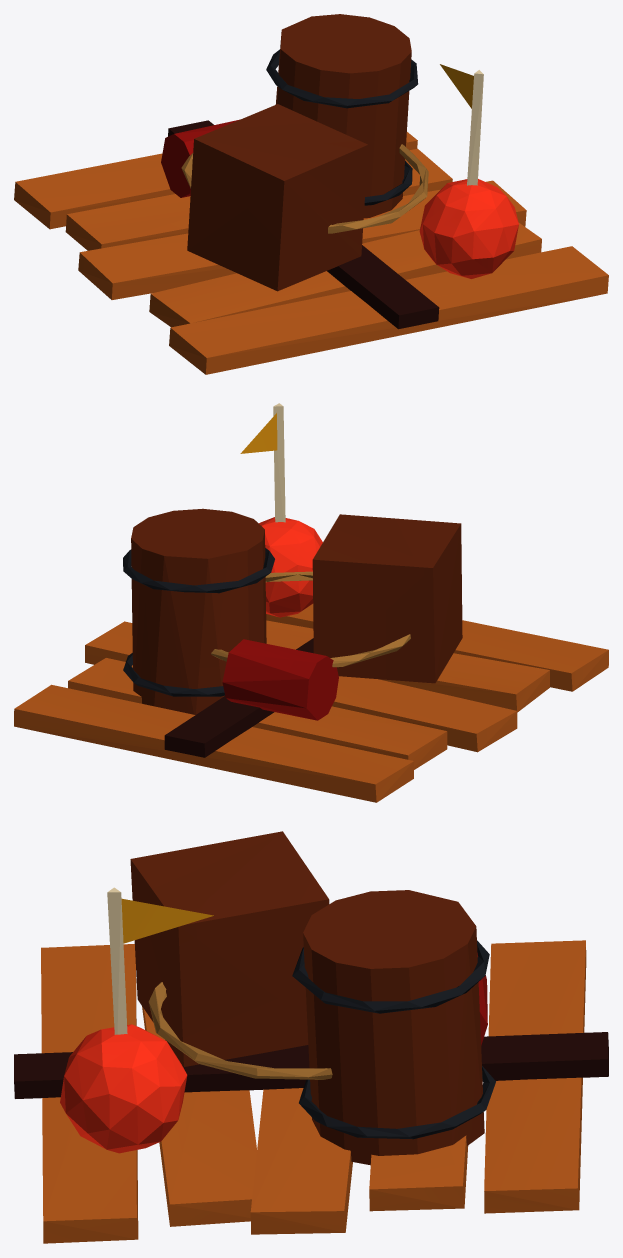
Rendered from floating_salvage.three-web-toon.lod50.glb.
The picture shows the model from 3 angles, top to bottom: view 1: azimuth 30°, elevation 25°; view 2: azimuth 150°, elevation 25°; view 3: azimuth 270°, elevation 25°; orthographic projection. The views are drawn at different scales.
Parts seen in each view (by area): view 1: floating_salvage_mesh_lod; view 2: floating_salvage_mesh_lod; view 3: floating_salvage_mesh_lod.
Part boxes in pixels (x1=…): floating_salvage_mesh_lod: x1=14, y1=14, x2=608, y2=374; floating_salvage_mesh_lod: x1=14, y1=403, x2=608, y2=802; floating_salvage_mesh_lod: x1=14, y1=831, x2=608, y2=1243.
Size of the model in its own units: 2.43 by 1.29 by 2.4.
